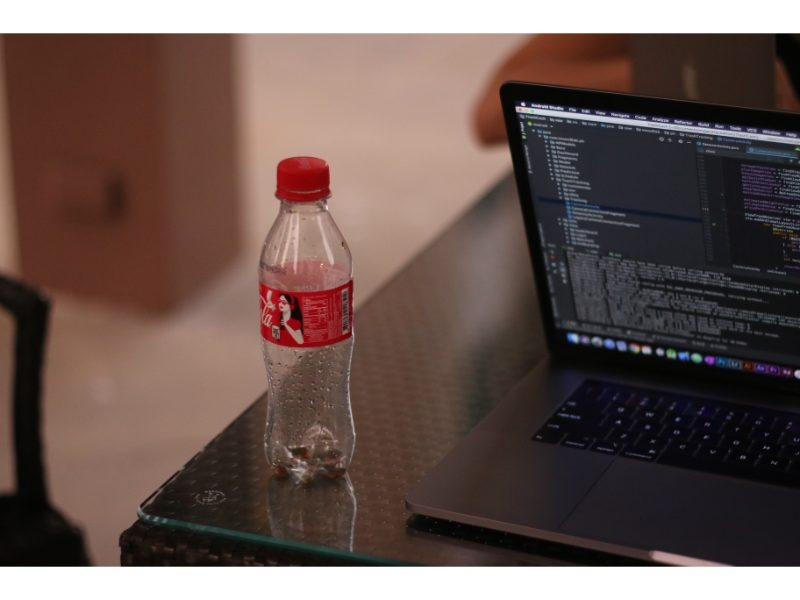PET #1: (256, 153, 361, 485)
